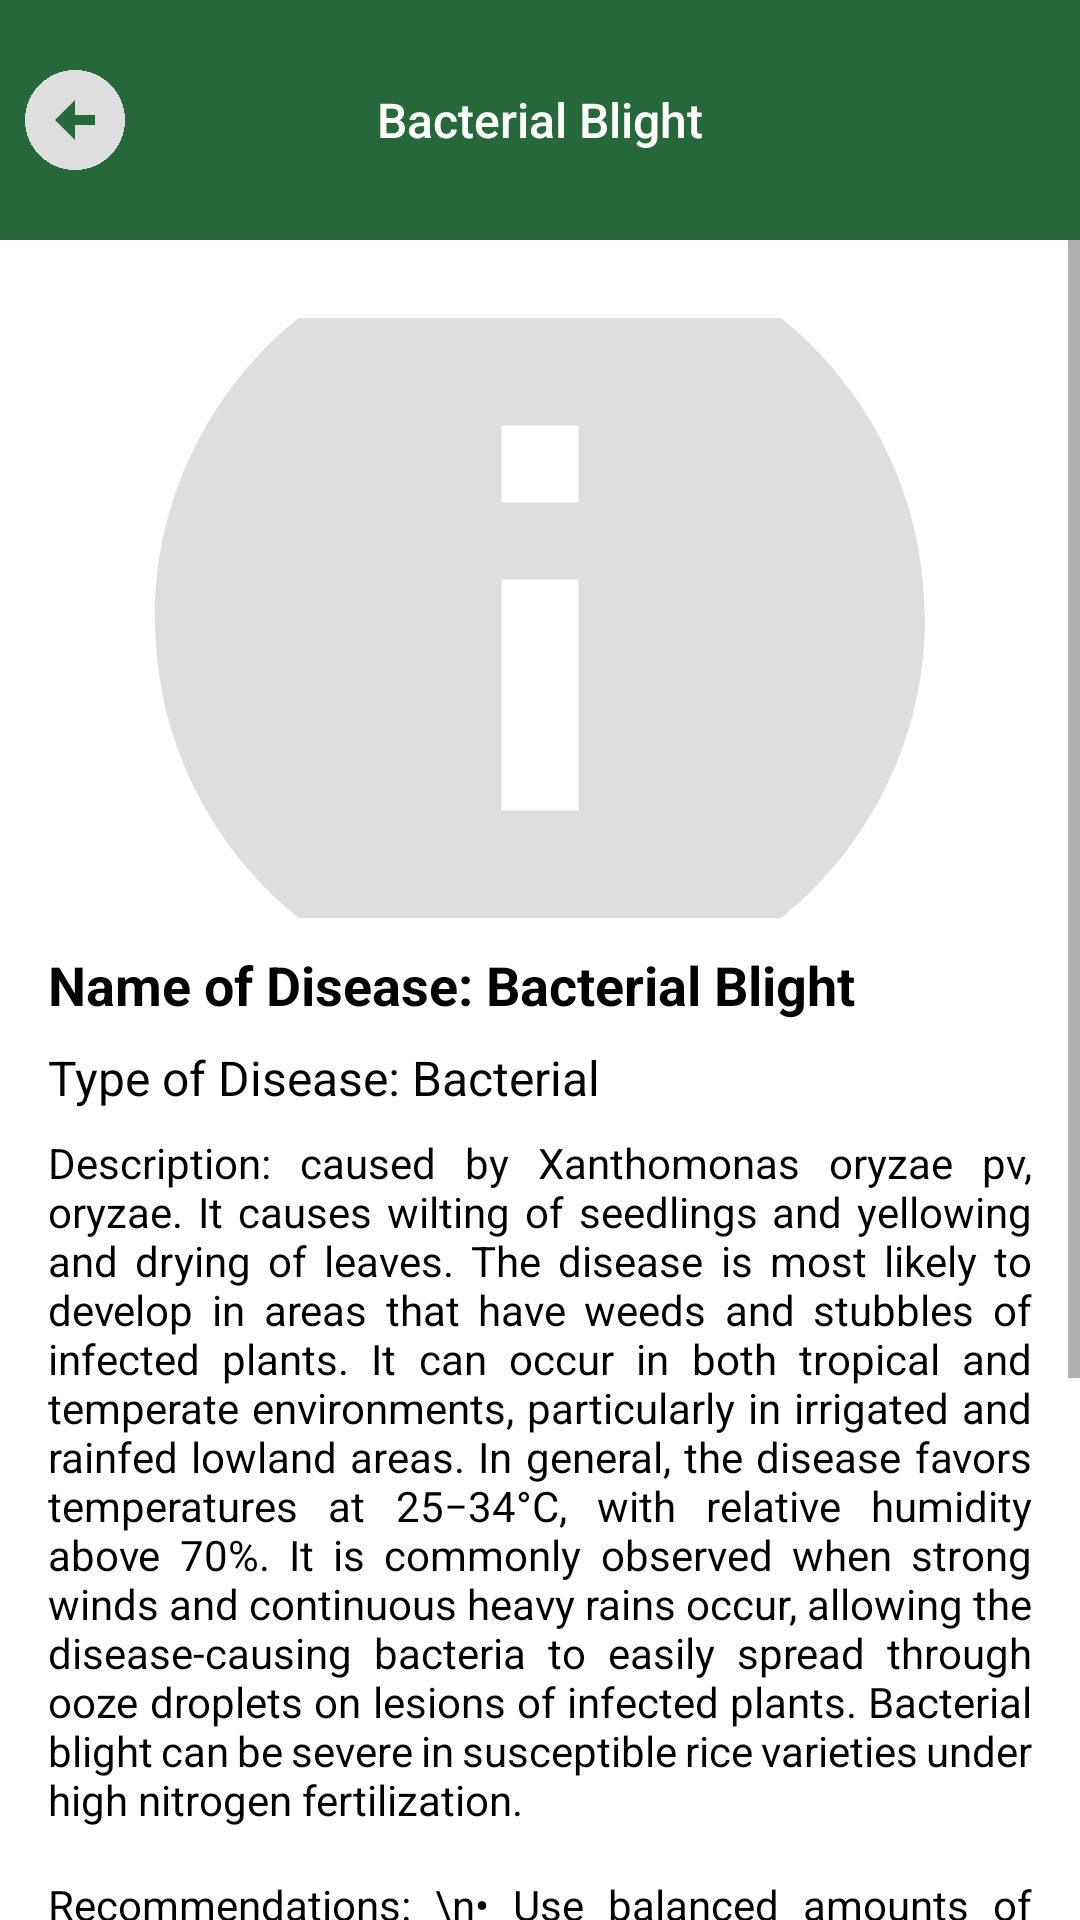

Locate icon controls on the screen. Image size 1080 x 1920, boxes as (x1, y1, x2, y2).
arrow circle left: (25, 70, 125, 170)
